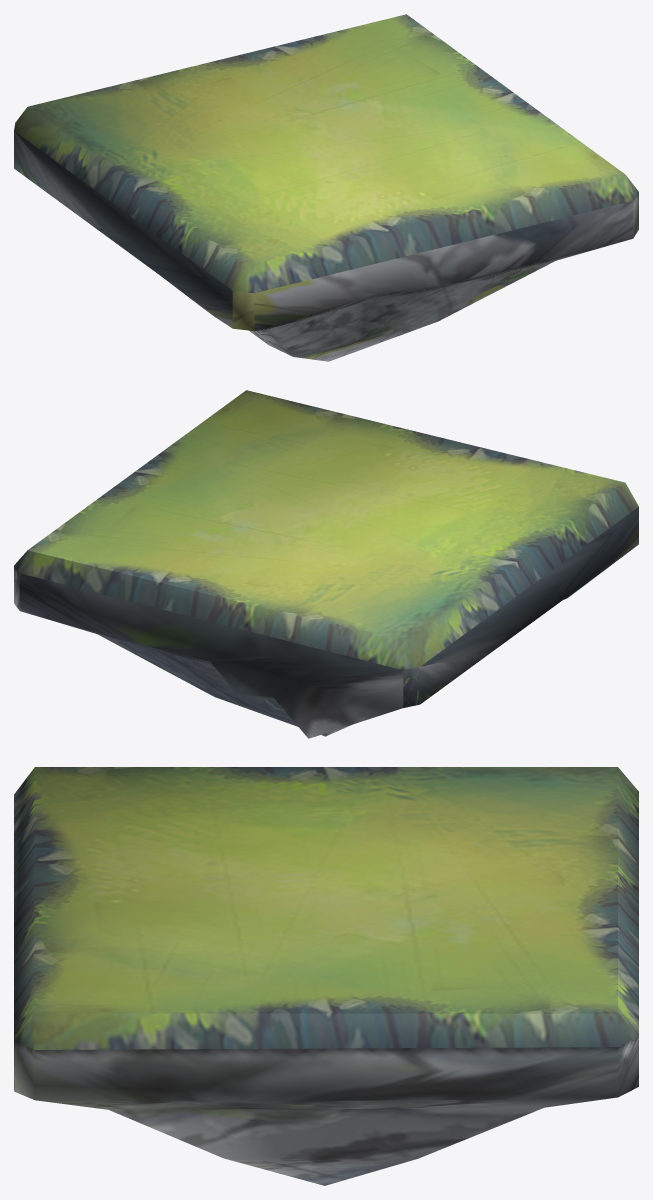
Rendered from Green_MD_Mainsquare.fbx.
3 renders of one model, top to bottom at view 1: azimuth 30°, elevation 25°; view 2: azimuth 150°, elevation 25°; view 3: azimuth 270°, elevation 25°, orthographic. The views are drawn at different scales.
Parts seen in each view (by area): view 1: Green_MD_MainSquare; view 2: Green_MD_MainSquare; view 3: Green_MD_MainSquare.
Part boxes in pixels (box(x1,y1,x2,y2)): Green_MD_MainSquare: box(14, 14, 638, 361); Green_MD_MainSquare: box(14, 390, 638, 738); Green_MD_MainSquare: box(14, 767, 638, 1185).
Bounding box in the file's own units: 0.98 × 0.5097 × 0.98.
